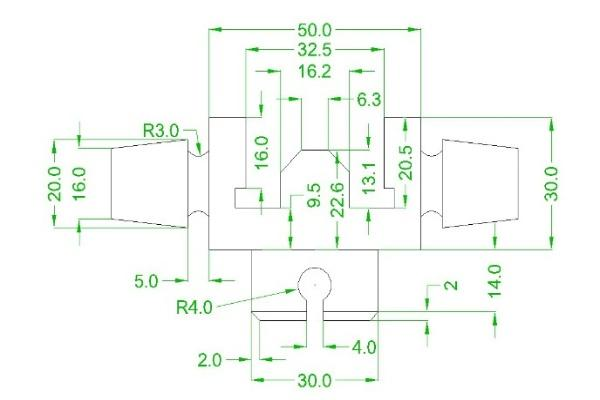dimensions: (169, 292, 220, 320), (246, 132, 278, 174), (482, 259, 508, 304), (186, 346, 228, 372), (128, 268, 168, 294), (42, 166, 67, 207), (292, 60, 338, 82), (69, 160, 92, 204), (541, 165, 564, 208), (328, 176, 348, 225), (303, 176, 326, 218), (356, 161, 382, 197), (394, 142, 418, 181), (140, 119, 180, 142), (296, 16, 337, 38), (295, 368, 334, 390), (352, 335, 383, 362), (292, 40, 336, 58), (354, 90, 383, 108), (439, 274, 466, 293)
